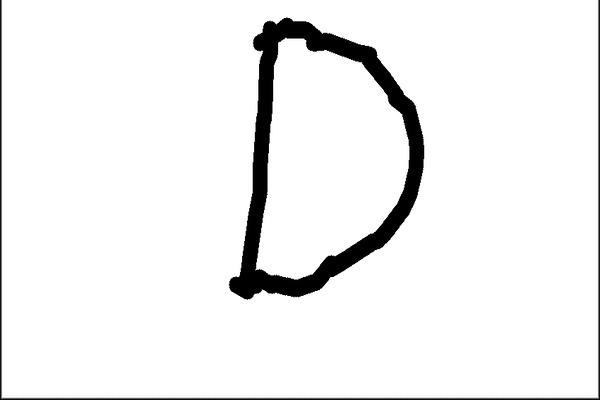D: (224, 13, 431, 300)
